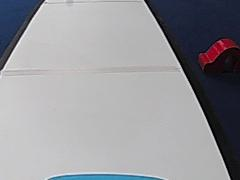Tracktor: (197, 36, 238, 73)
